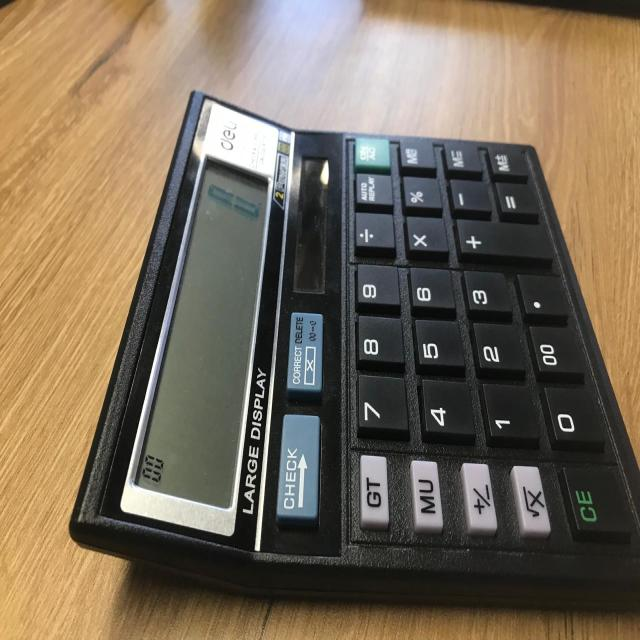calculator: (67, 87, 638, 613)
